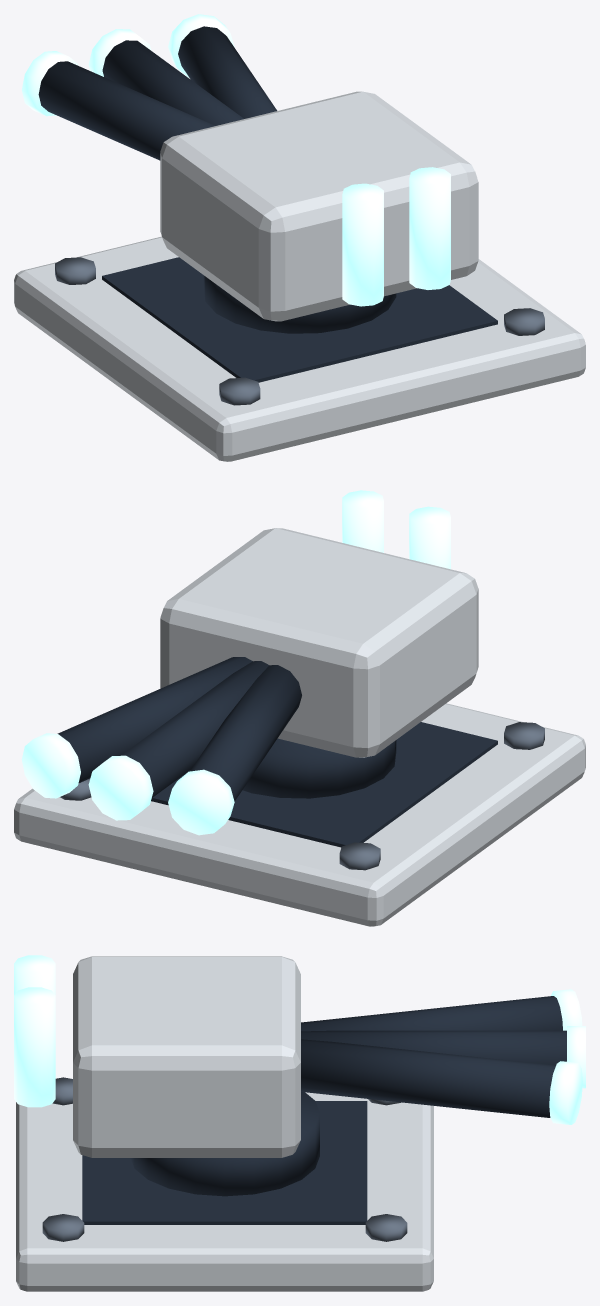
Rendered from tri.fbx.
3 views of the same model, one above another, from view 1: azimuth 30°, elevation 25°; view 2: azimuth 150°, elevation 25°; view 3: azimuth 270°, elevation 25° (orthographic).
Visible parts, largest first — view 1: Panel_Plate0.001, Panel_Receiver0, Inset_Inset0.001, Inset_Barrel0.001, Emit_Cell0.001, Emit_Cell1.001, Inset_Barrel1.001, Inset_Barrel2, Inset_Ring0.001, Emit_Tip0.001, Emit_Tip2, Emit_Tip1.001 (+3 smaller); view 2: Panel_Receiver0, Panel_Plate0.001, Inset_Inset0.001, Inset_Barrel0.001, Inset_Barrel2, Inset_Ring0.001, Inset_Barrel1.001, Emit_Tip0.001, Emit_Tip1.001, Emit_Tip2, Emit_Cell0.001, Emit_Cell1.001 (+2 smaller); view 3: Panel_Receiver0, Panel_Plate0.001, Inset_Inset0.001, Inset_Barrel2, Inset_Ring0.001, Inset_Barrel1.001, Inset_Barrel0.001, Emit_Cell1.001, Emit_Tip2, Emit_Cell0.001, Gun_Bolt2.001, Gun_Bolt3.001 (+3 smaller).
Boxes of the visible parts, bbox=[...] form: Panel_Plate0.001: bbox=[14, 236, 585, 461]; Panel_Receiver0: bbox=[160, 91, 478, 321]; Inset_Inset0.001: bbox=[102, 257, 497, 382]; Inset_Barrel0.001: bbox=[38, 61, 214, 160]; Emit_Cell0.001: bbox=[342, 183, 383, 306]; Emit_Cell1.001: bbox=[409, 167, 450, 289]; Inset_Barrel1.001: bbox=[102, 40, 243, 125]; Inset_Barrel2: bbox=[178, 26, 277, 118]; Inset_Ring0.001: bbox=[203, 275, 396, 333]; Emit_Tip0.001: bbox=[22, 51, 78, 116]; Emit_Tip2: bbox=[168, 14, 234, 77]; Emit_Tip1.001: bbox=[88, 29, 151, 76]; Panel_Receiver0: bbox=[160, 528, 478, 757]; Panel_Plate0.001: bbox=[14, 703, 585, 926]; Inset_Inset0.001: bbox=[151, 722, 497, 847]; Inset_Barrel0.001: bbox=[190, 665, 301, 801]; Inset_Barrel2: bbox=[57, 657, 252, 782]; Inset_Ring0.001: bbox=[242, 738, 396, 798]; Inset_Barrel1.001: bbox=[121, 661, 269, 797]; Emit_Tip0.001: bbox=[168, 769, 234, 835]; Emit_Tip1.001: bbox=[88, 755, 153, 820]; Emit_Tip2: bbox=[21, 733, 80, 798]; Emit_Cell0.001: bbox=[409, 506, 450, 569]; Emit_Cell1.001: bbox=[342, 490, 383, 552]; Panel_Receiver0: bbox=[73, 956, 300, 1157]; Panel_Plate0.001: bbox=[16, 1092, 433, 1291]; Inset_Inset0.001: bbox=[82, 1101, 367, 1224]; Inset_Barrel2: bbox=[301, 1039, 555, 1117]; Inset_Ring0.001: bbox=[130, 1092, 319, 1196]; Inset_Barrel1.001: bbox=[301, 1030, 566, 1065]; Inset_Barrel0.001: bbox=[301, 996, 562, 1031]; Emit_Cell1.001: bbox=[14, 987, 55, 1107]; Emit_Tip2: bbox=[549, 1061, 582, 1124]; Emit_Cell0.001: bbox=[14, 955, 55, 995]; Gun_Bolt2.001: bbox=[42, 1214, 84, 1241]; Gun_Bolt3.001: bbox=[365, 1214, 407, 1241].
Bounding box in the file's own units: 0.44 × 0.602 × 0.265.
